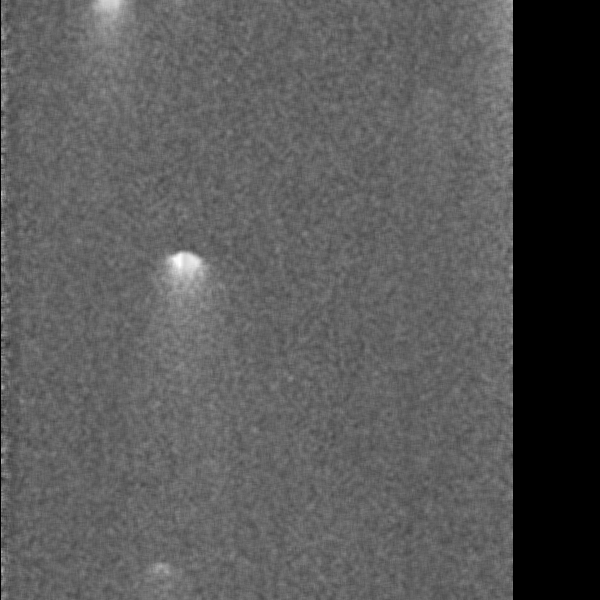spark: (150, 250, 222, 334), (147, 556, 175, 582), (487, 58, 518, 74)
